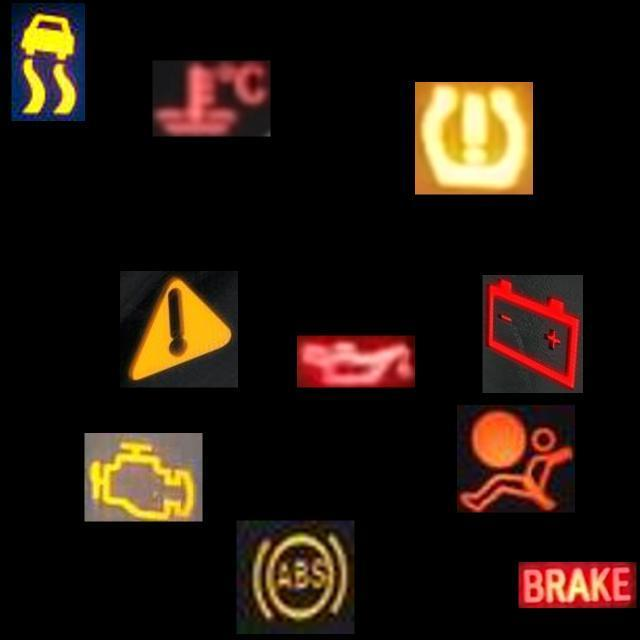Central Warning lamp: (120, 270, 238, 388)
Engine cooling system: (152, 60, 270, 136)
